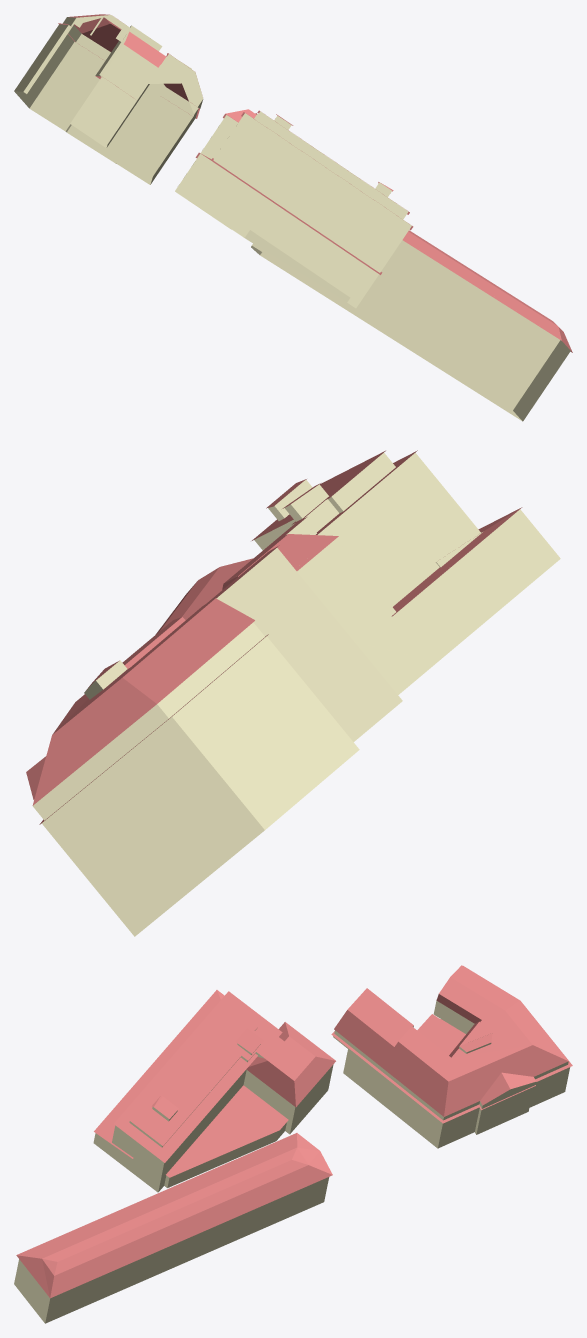
Rendered from tile_068.glb.
The picture shows the model from 3 angles, top to bottom: view 1: azimuth 30°, elevation 25°; view 2: azimuth 150°, elevation 25°; view 3: azimuth 270°, elevation 25°; orthographic projection. The views are drawn at different scales.
Parts seen in each view (by area): view 1: Batched_Building_ID_6313E1C4-12C5-41ED-A080-CCDECFC98754; view 2: Batched_Building_ID_6313E1C4-12C5-41ED-A080-CCDECFC98754; view 3: Batched_Building_ID_6313E1C4-12C5-41ED-A080-CCDECFC98754.
Part boxes in pixels (<box>): Batched_Building_ID_6313E1C4-12C5-41ED-A080-CCDECFC98754: <box>14,14,572,421</box>; Batched_Building_ID_6313E1C4-12C5-41ED-A080-CCDECFC98754: <box>26,450,560,936</box>; Batched_Building_ID_6313E1C4-12C5-41ED-A080-CCDECFC98754: <box>14,965,572,1323</box>.
Bounding box in the file's own units: 109 × 93.22 × 180.
